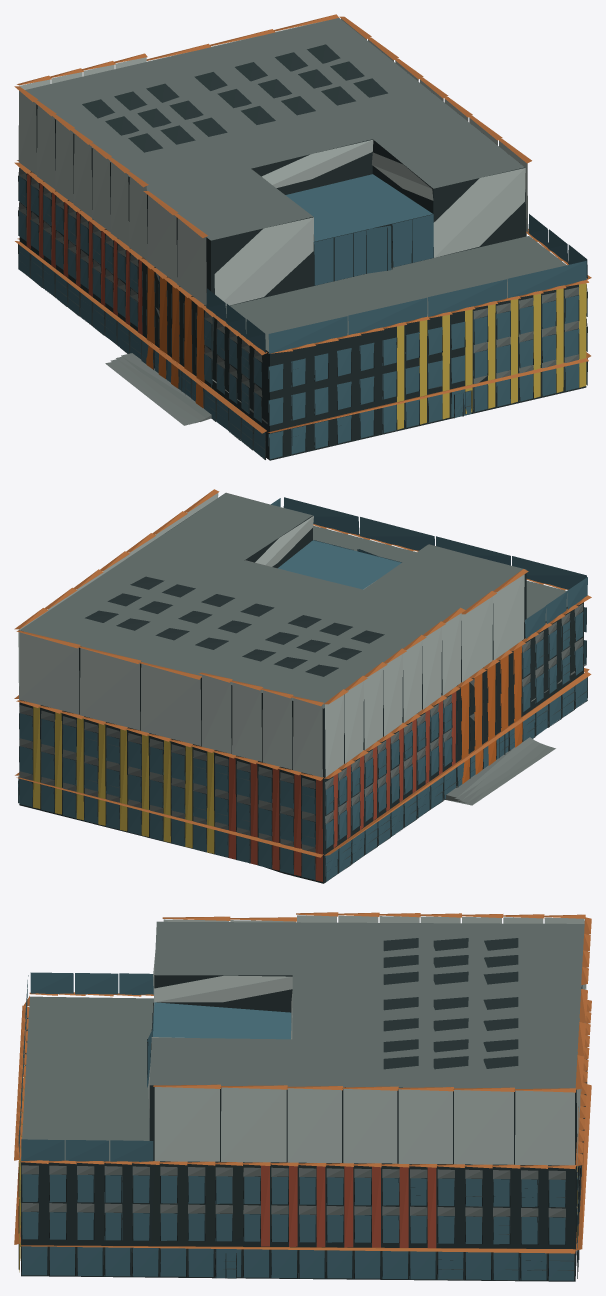
Rendered from haparandaweg-2-4.lod1.glb.
3 renders of one model, top to bottom at view 1: azimuth 30°, elevation 25°; view 2: azimuth 150°, elevation 25°; view 3: azimuth 270°, elevation 25°, orthographic. The views are drawn at different scales.
Parts seen in each view (by area): view 1: haparandaweg-2-4; view 2: haparandaweg-2-4; view 3: haparandaweg-2-4.
Part boxes in pixels (left/top/right/bottom): haparandaweg-2-4: left=14, top=14, right=591, bottom=460; haparandaweg-2-4: left=14, top=489, right=591, bottom=883; haparandaweg-2-4: left=14, top=912, right=591, bottom=1281.
Size of the model in its own units: 44.42 by 21.98 by 57.89.
